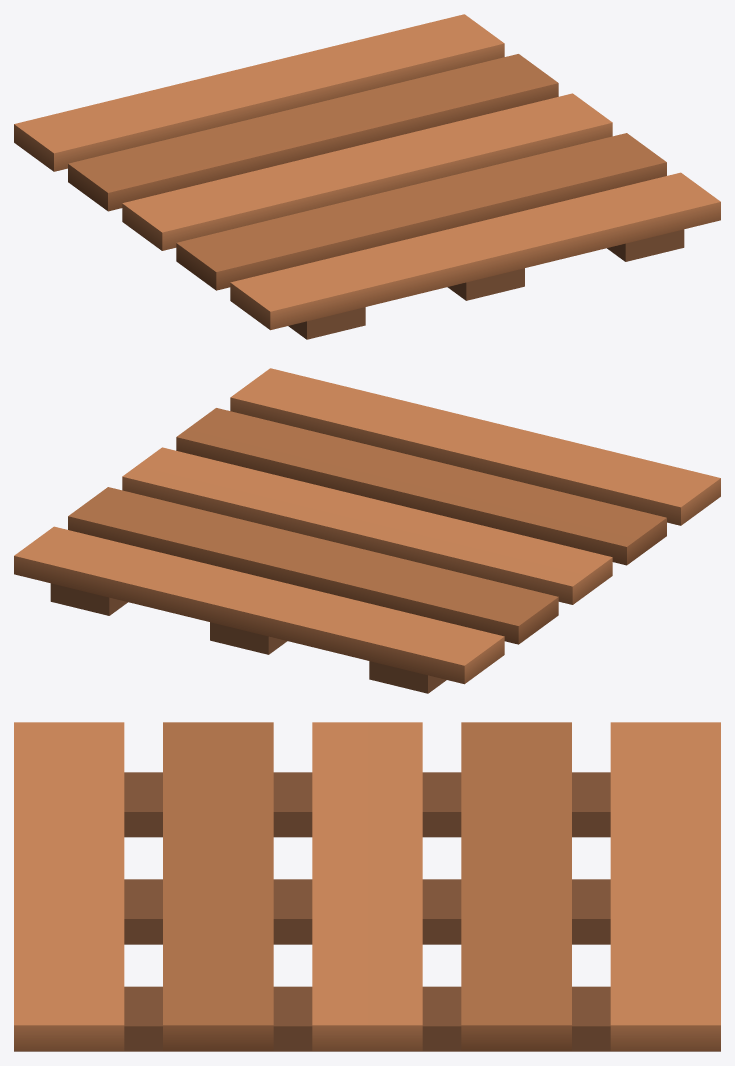
File: Wooden_Pallet_1.fbx
3 views of the same model, one above another, from view 1: azimuth 30°, elevation 25°; view 2: azimuth 150°, elevation 25°; view 3: azimuth 270°, elevation 25° (orthographic). The views are drawn at different scales.
Visible parts, largest first — view 1: Wooden_Pallet_1; view 2: Wooden_Pallet_1; view 3: Wooden_Pallet_1.
Part boxes in pixels (<box>): Wooden_Pallet_1: <box>14,14,720,339</box>; Wooden_Pallet_1: <box>14,368,720,693</box>; Wooden_Pallet_1: <box>14,722,720,1051</box>.
Size of the model in its own units: 200 by 15.66 by 197.
Materials: 1 (1 with a texture image).
